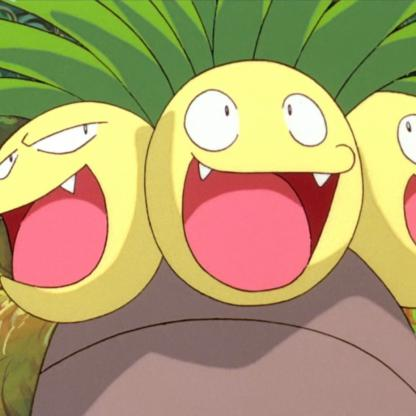Exeggutor: (1, 1, 416, 416)
